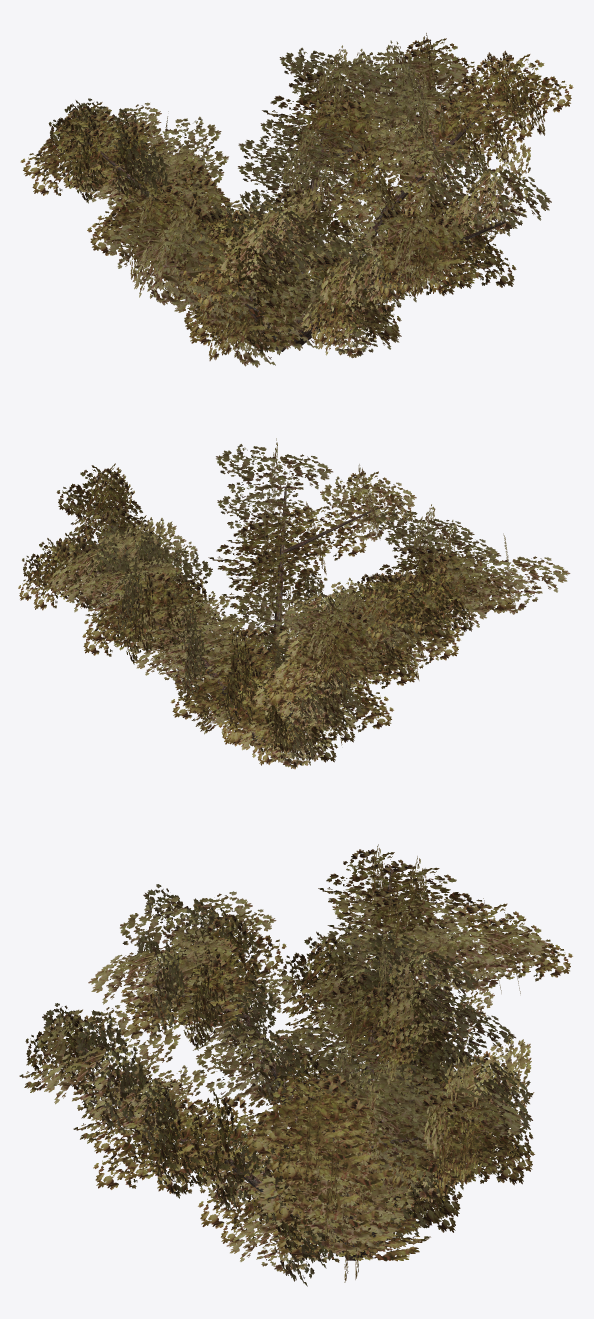
Rendered from bush_3d_02_golden_beige_lod0.glb.
3 views of the same model, one above another, from view 1: azimuth 30°, elevation 25°; view 2: azimuth 150°, elevation 25°; view 3: azimuth 270°, elevation 25° (orthographic). The views are drawn at different scales.
Parts seen in each view (by area): view 1: foliage_cards, wood_geometry; view 2: foliage_cards, wood_geometry; view 3: foliage_cards, wood_geometry.
Part boxes in pixels (box(x1,y1,x2,y2)): foliage_cards: box(20, 33, 573, 367); wood_geometry: box(87, 69, 505, 351); foliage_cards: box(18, 438, 570, 769); wood_geometry: box(68, 486, 483, 744); foliage_cards: box(19, 844, 572, 1286); wood_geometry: box(85, 869, 491, 1260).
Size of the model in its own units: 3.1 by 1.49 by 2.51.
2 materials, 2 textured.
